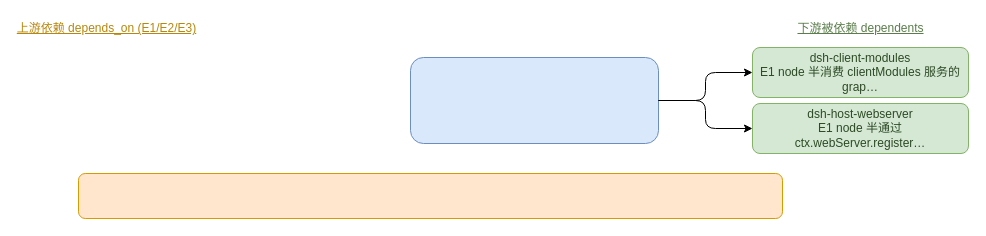
This 986x236 diagram has some shape labels left out. The shapes that lost their labels are listed below. From the top down, each one's centre as x and y in pixels, then its label:
pixel 534 100: dsh-client-hmr @deepseek-ai/dsh-client-hmr
pixel 430 195: provides 关键项 • /plugins/events SSE 通道（graph/rebuil…
